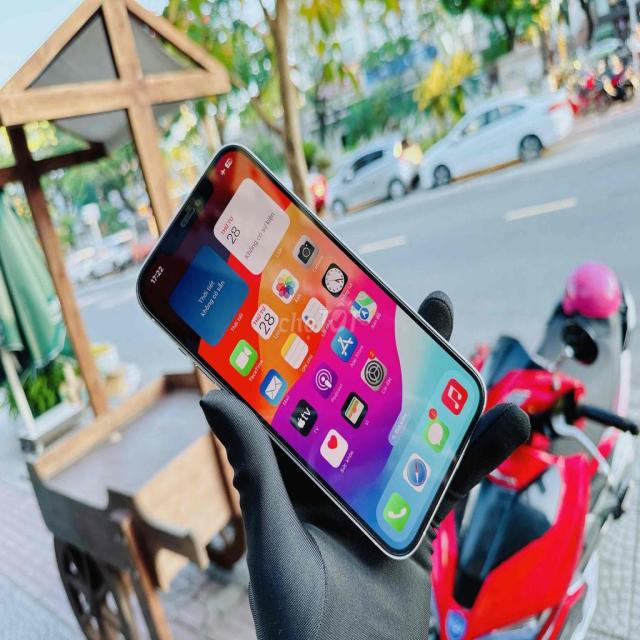gen_12_13: (134, 140, 488, 556)
